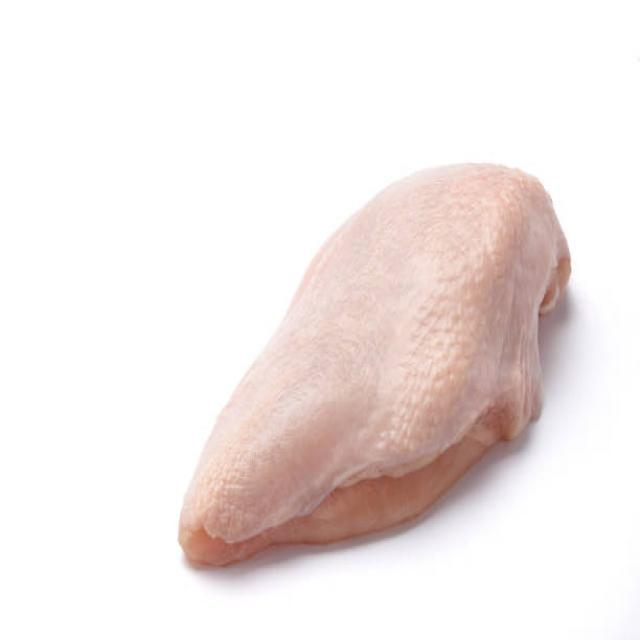Chicken: (164, 87, 558, 573)
